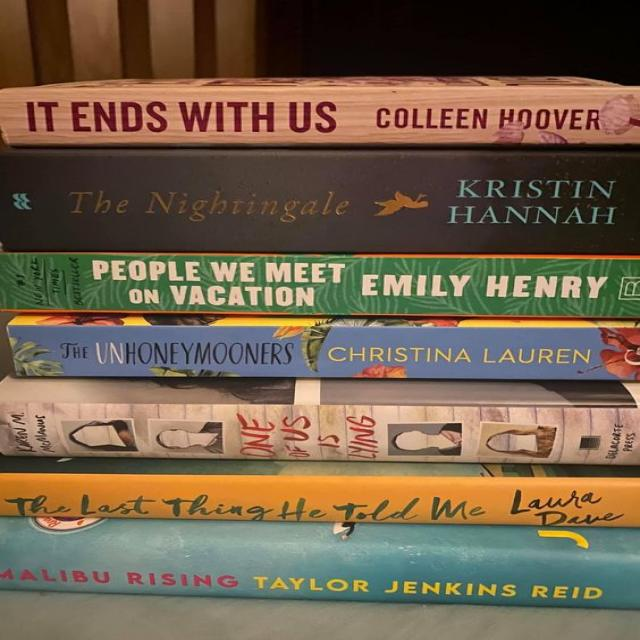book: (0, 148, 639, 253), (0, 518, 639, 609), (7, 313, 634, 378), (8, 254, 640, 316), (0, 404, 640, 460), (0, 91, 640, 145), (0, 474, 639, 527)
